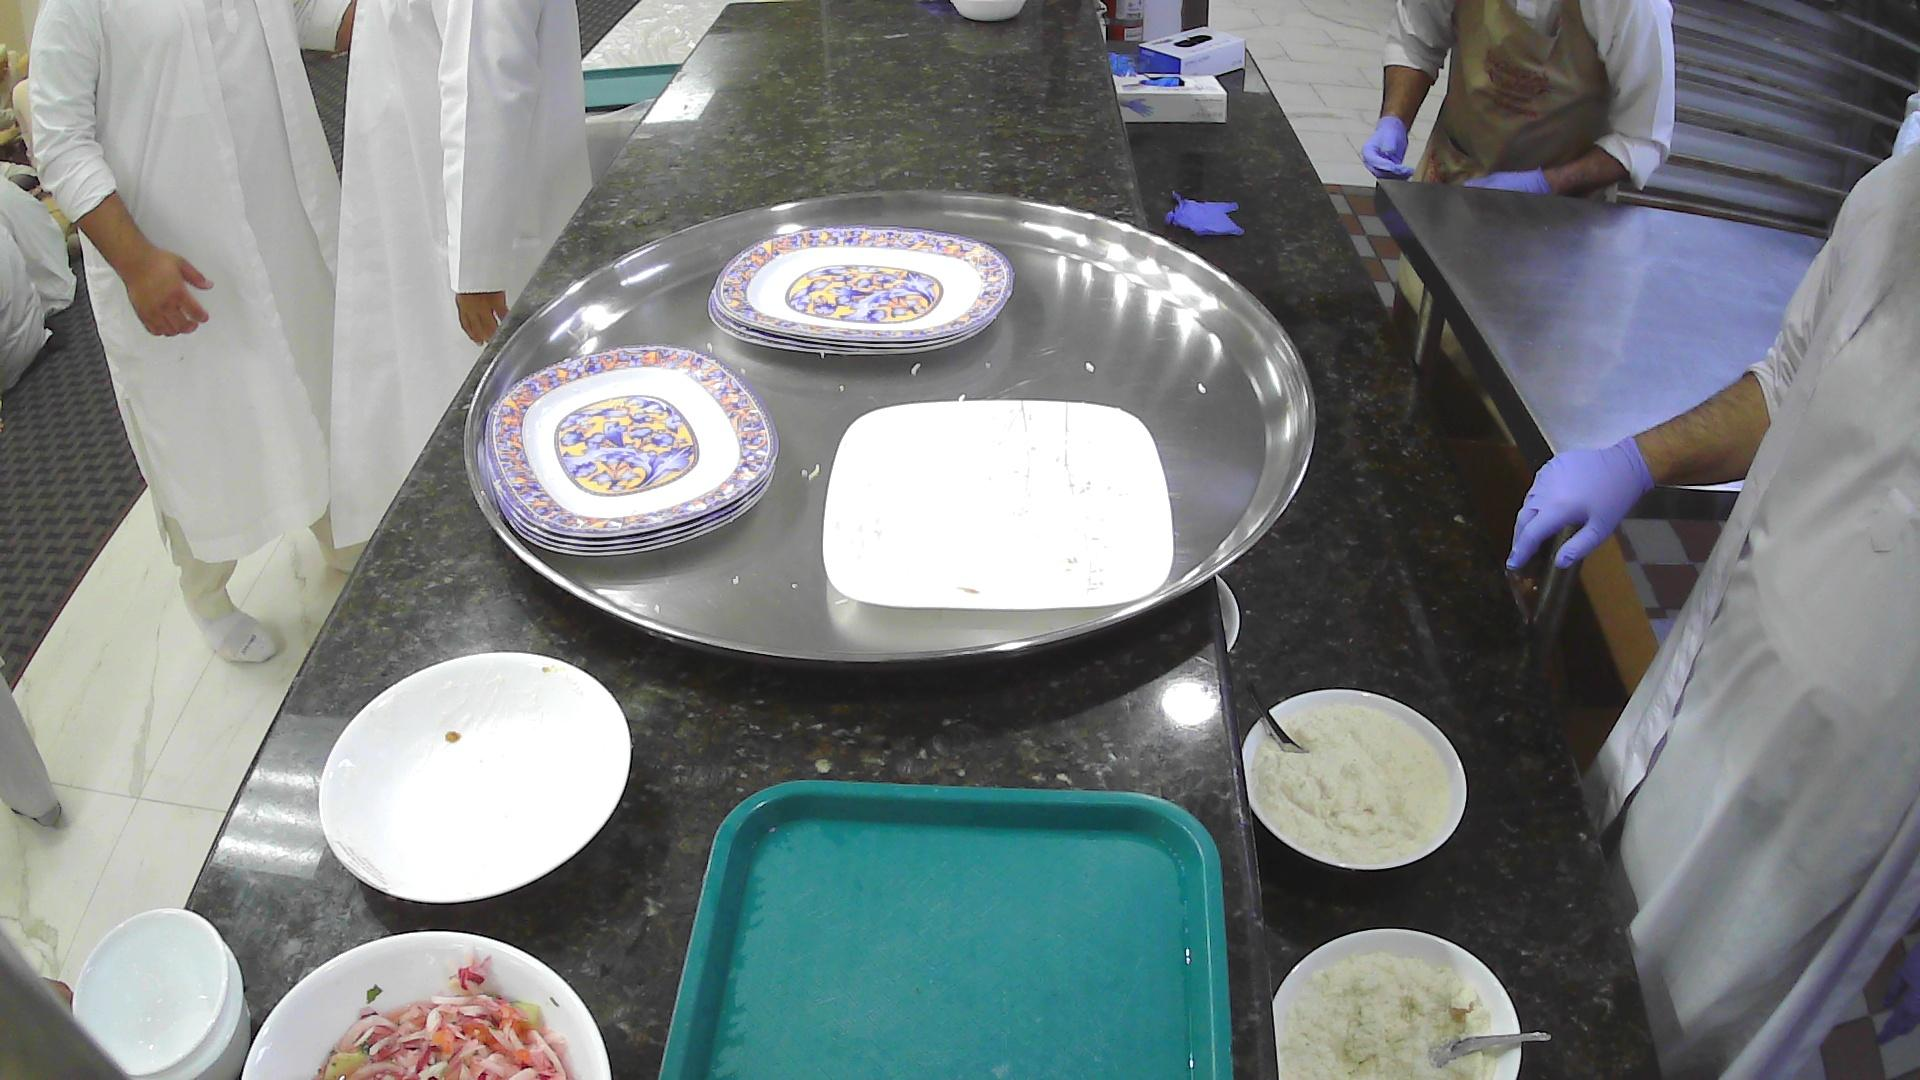thaal: (462, 185, 1320, 679)
